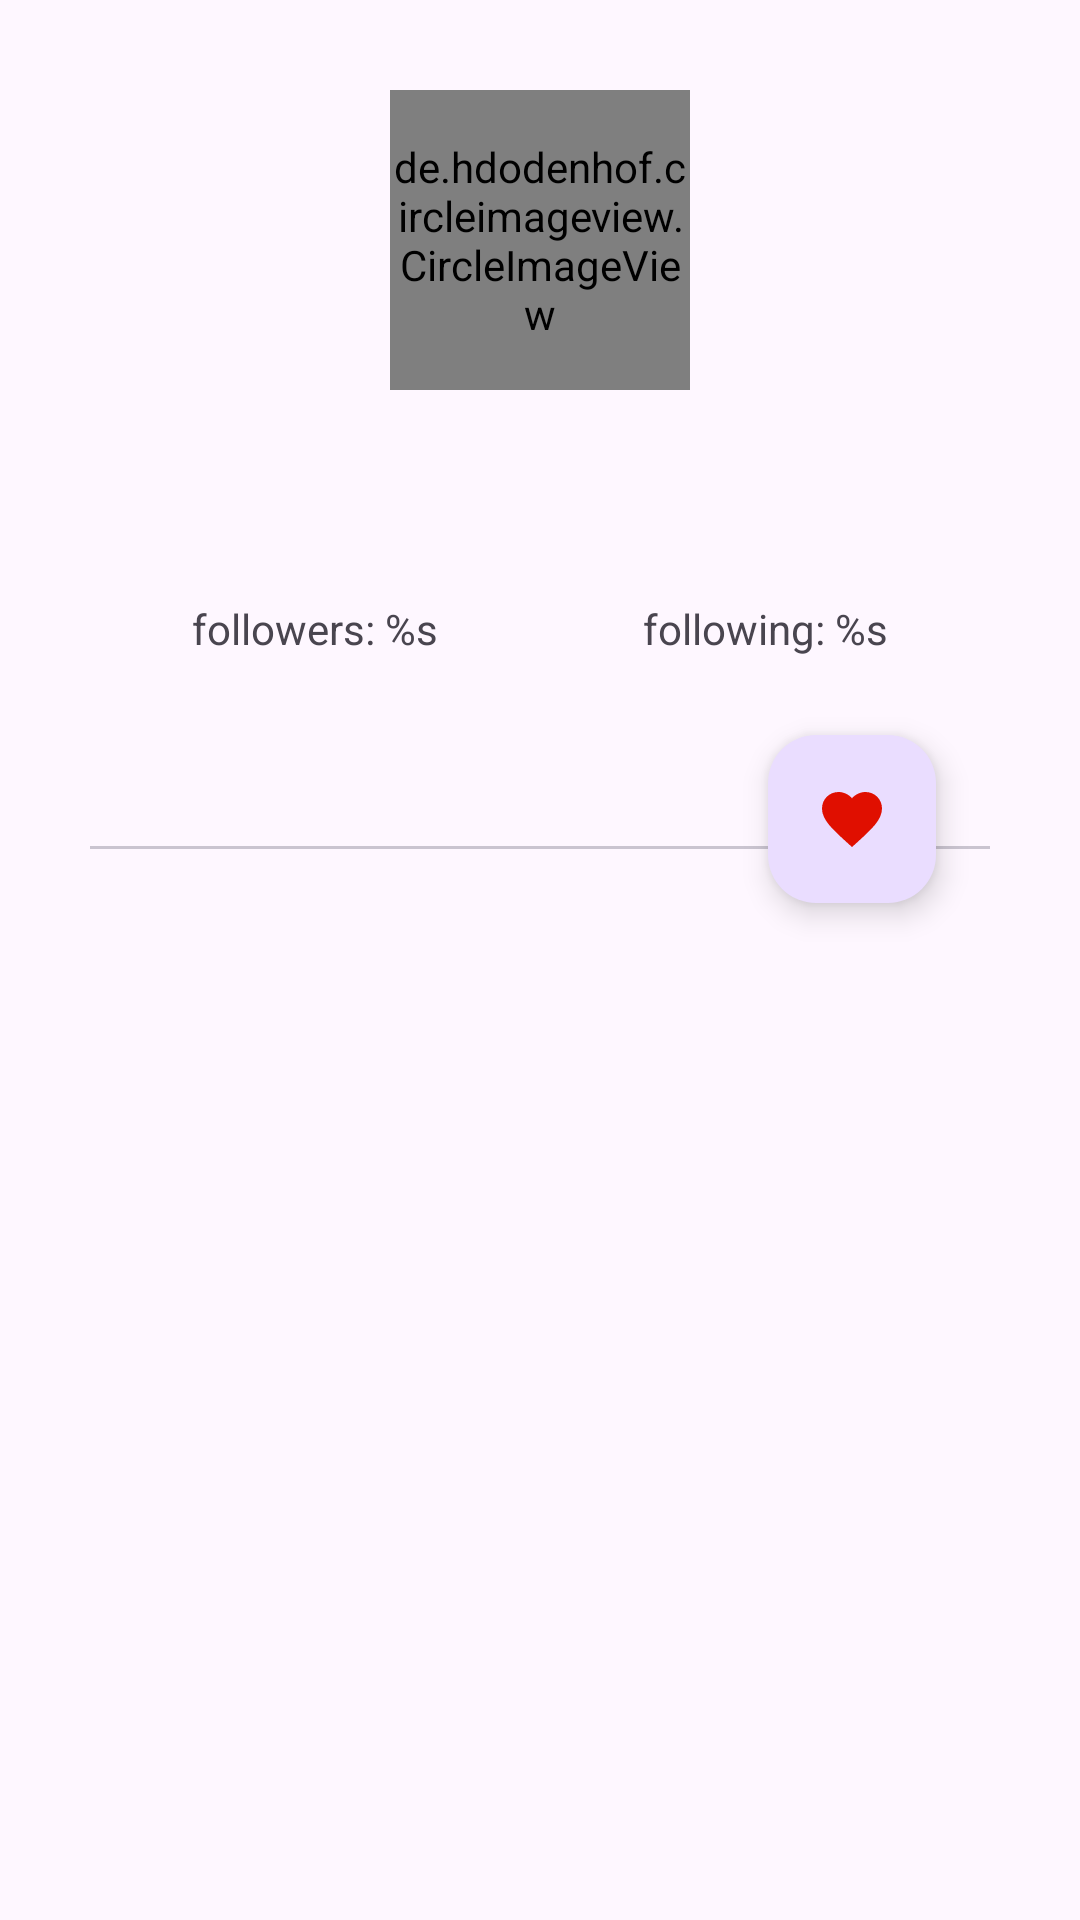

Icon click points for this 1080w x 1920h phone screenshot, format point (x, y):
favorite: point (852, 819)
